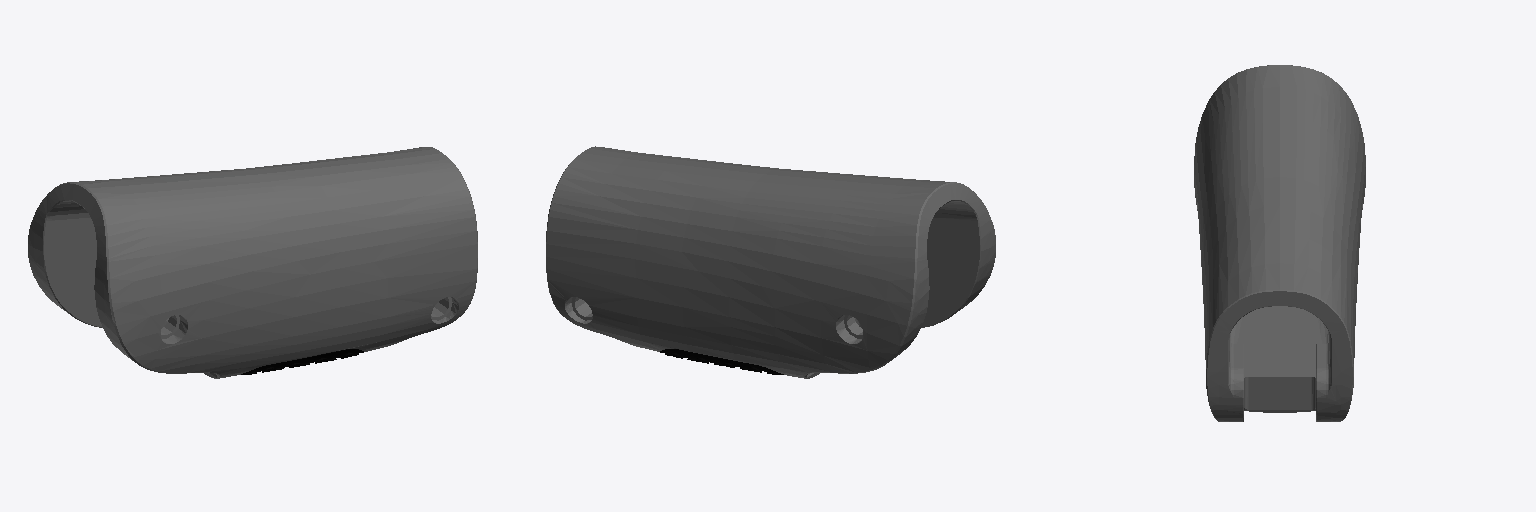
Rendered from R_pinky_proximal_link.obj.
The picture shows the model from 3 angles: view 1: azimuth 30°, elevation 25°; view 2: azimuth 150°, elevation 25°; view 3: azimuth 270°, elevation 25°; orthographic projection.
Parts seen in each view (by area): view 1: R_pinky_proximal_link; view 2: R_pinky_proximal_link; view 3: R_pinky_proximal_link.
Part boxes in pixels (x1,y1,x2,y2): R_pinky_proximal_link: (28,147,477,378); R_pinky_proximal_link: (546,146,995,378); R_pinky_proximal_link: (1194,65,1365,421).
Bounding box in the file's own units: 0.0426 × 0.0236 × 0.0169.